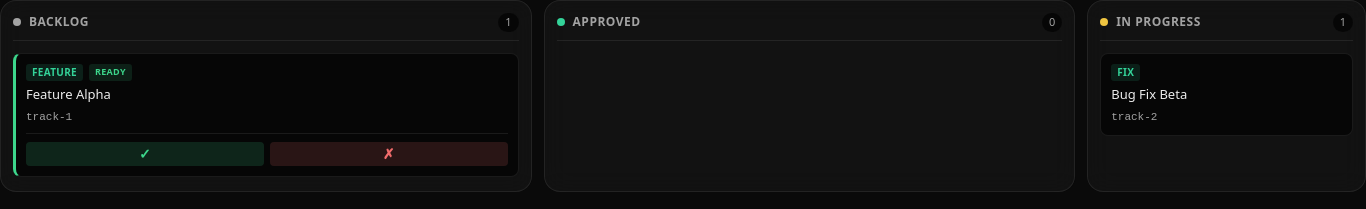
Test: KanbanBoard › shows confirmation dialog when reject is clicked
Click the button titled "Reject" at (389, 154), box [270, 142, 508, 166]
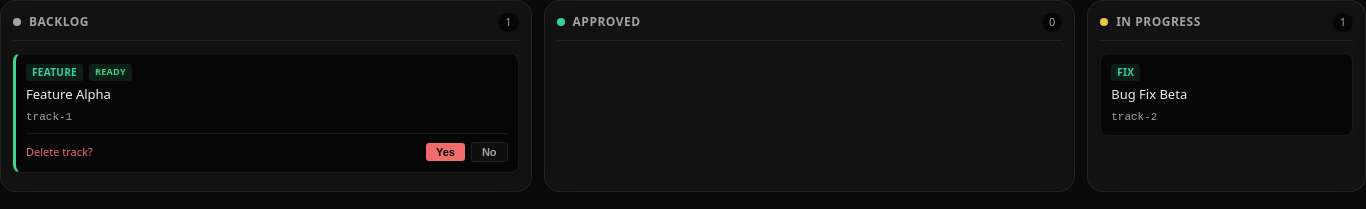
Expected: the text "Delete track?" is shown, [26, 144, 93, 159]
Expected: the button "Yes" is shown, [426, 143, 465, 161]
Expected: the button "No" is shown, [471, 142, 508, 162]
